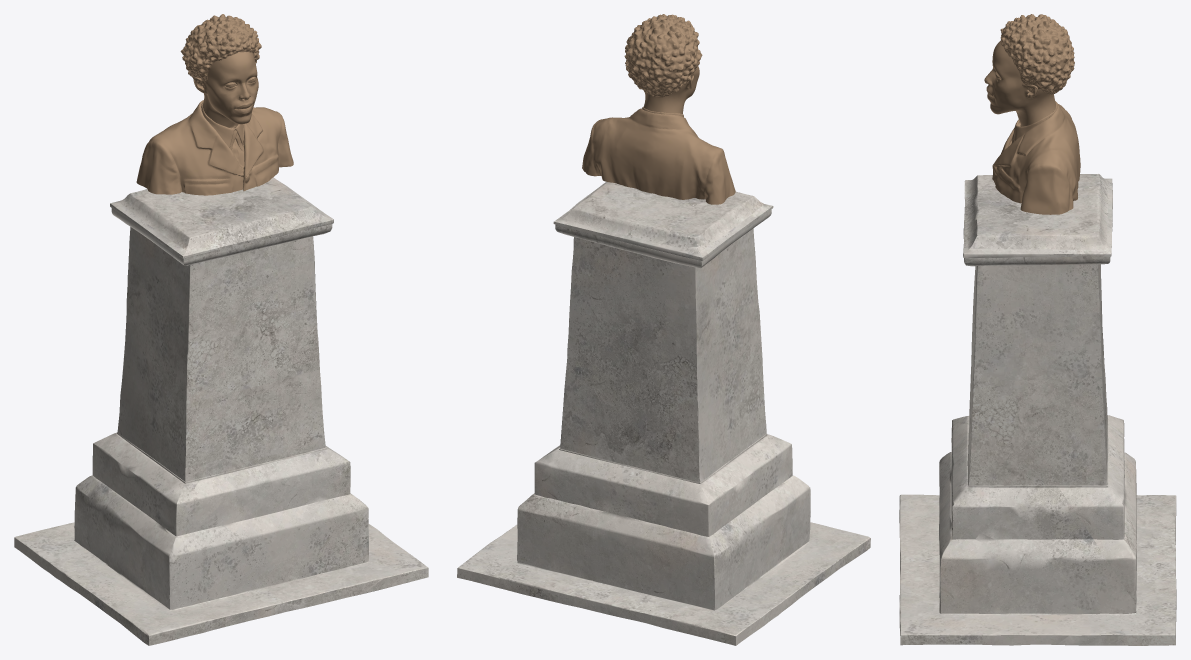
The model's file is kim-AR-comp.glb.
3 renders of one model, left to right at view 1: azimuth 30°, elevation 25°; view 2: azimuth 150°, elevation 25°; view 3: azimuth 270°, elevation 25°, orthographic. The views are drawn at different scales.
Bounding box in the file's own units: 1.21 × 2.25 × 1.01.
2 materials, 2 textured.
